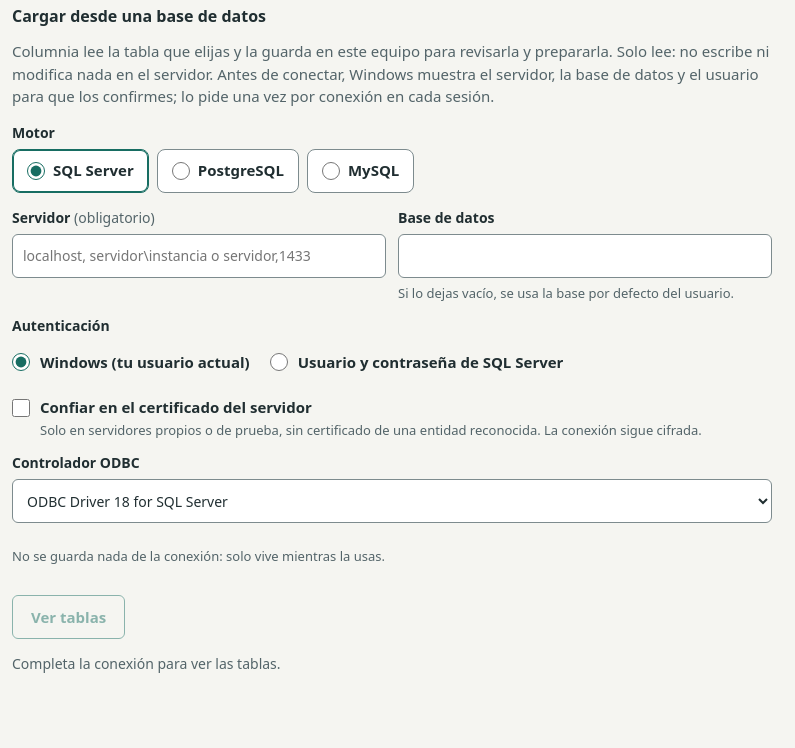
Scenario: DatabaseImportPanel › dice cuándo el usuario no puede leer ninguna tabla
This screenshot has width=795, height=748.
Check: the dropdown labelled "Controlador ODBC" shows "ODBC Driver 18 for SQL Server", box [12,479,772,523]
Type "localhost" into the field labelled "Servidor" at {"x": 199, "y": 256}, box [12,234,386,278]
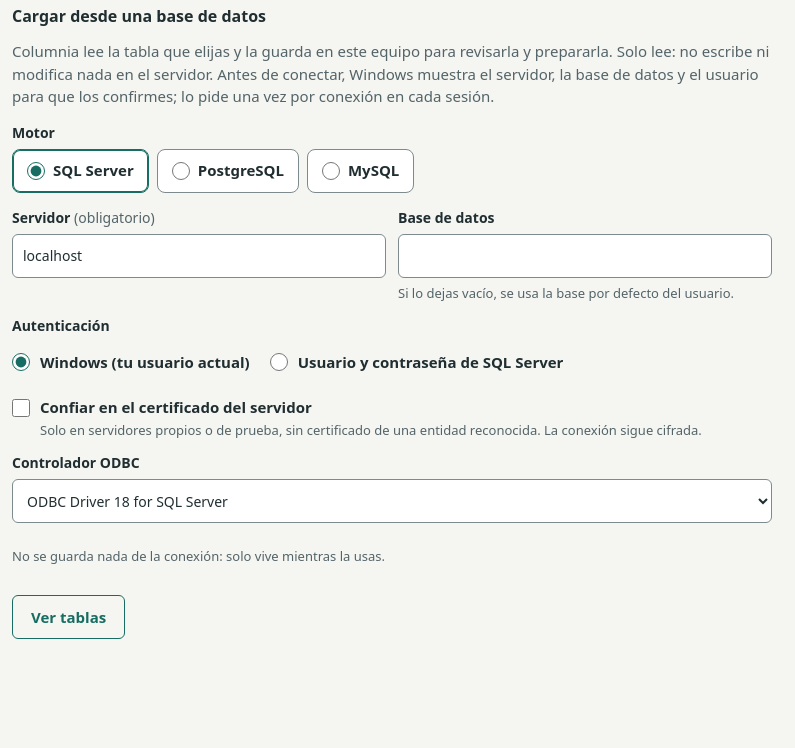
Type "VentasRetail" into the field labelled "Base de datos" at {"x": 585, "y": 256}, box [398,234,772,278]
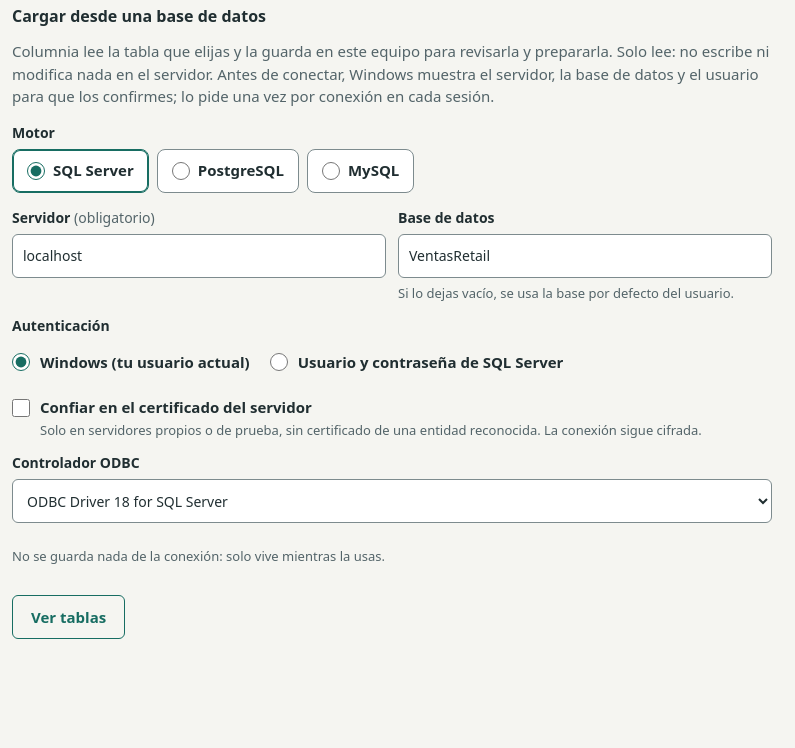
Click the button "Ver tablas" at {"x": 69, "y": 617}, box [12,594,125,639]
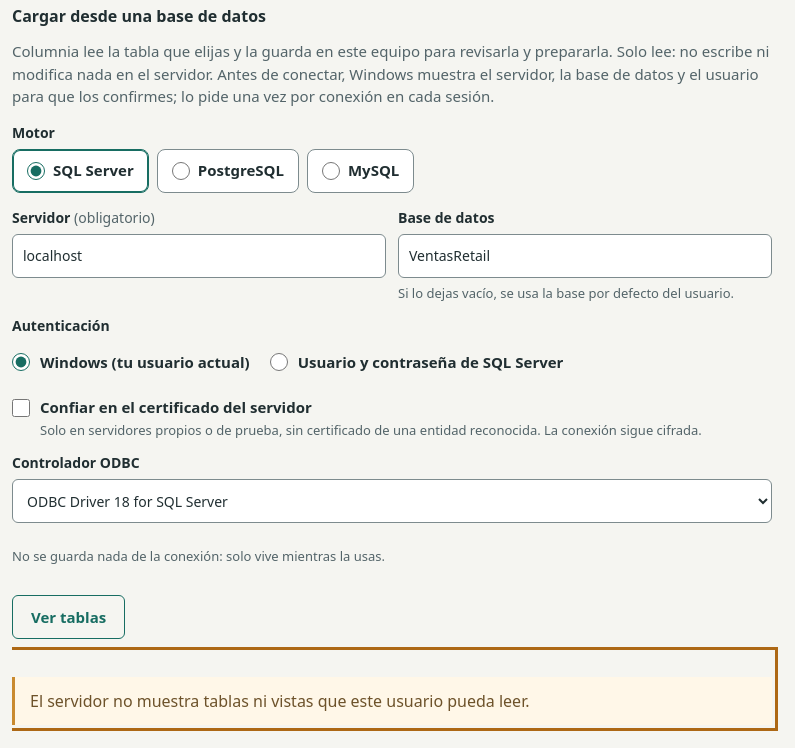
Check: the text "no muestra tablas ni vistas que este usuario pueda leer" is shown, box [30,690,530,712]
